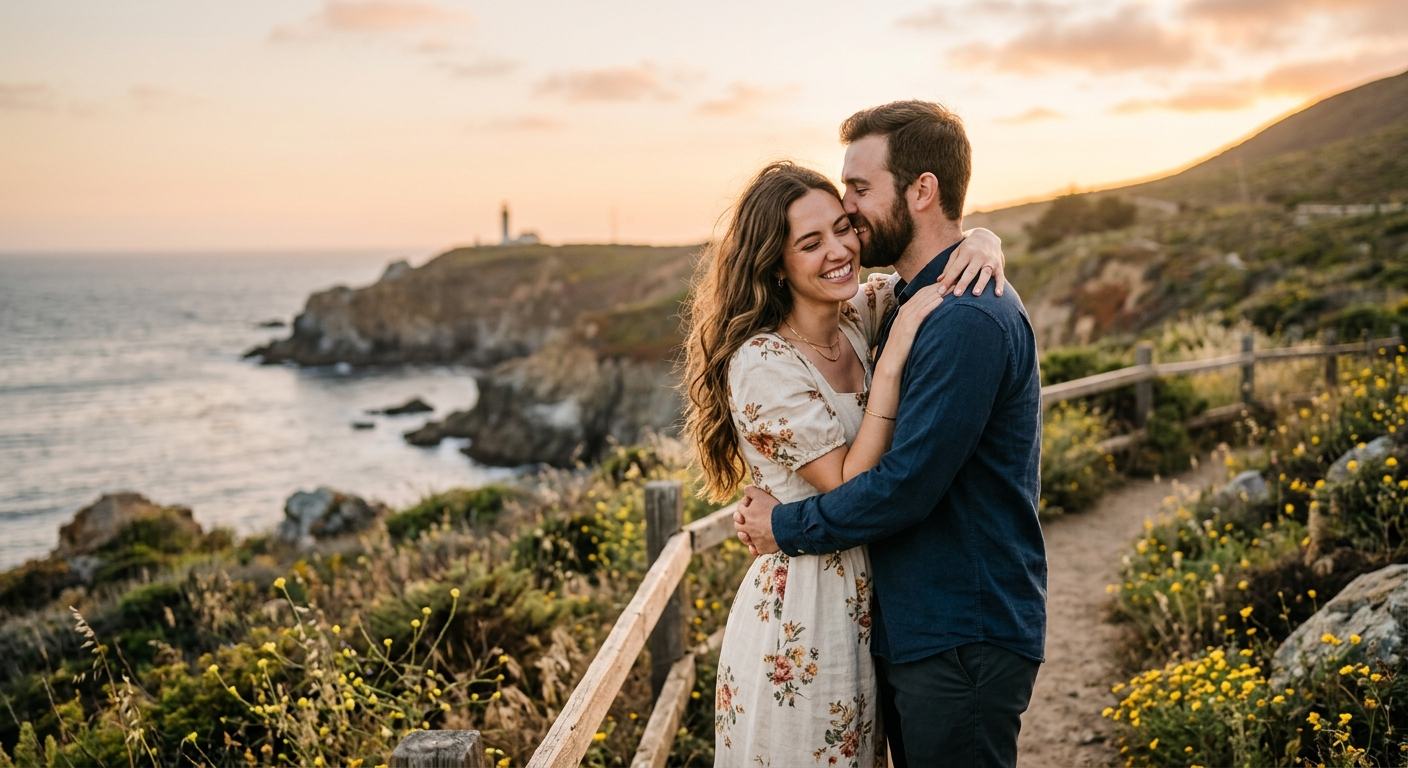person: (828, 97, 1045, 768), (675, 145, 896, 768)
